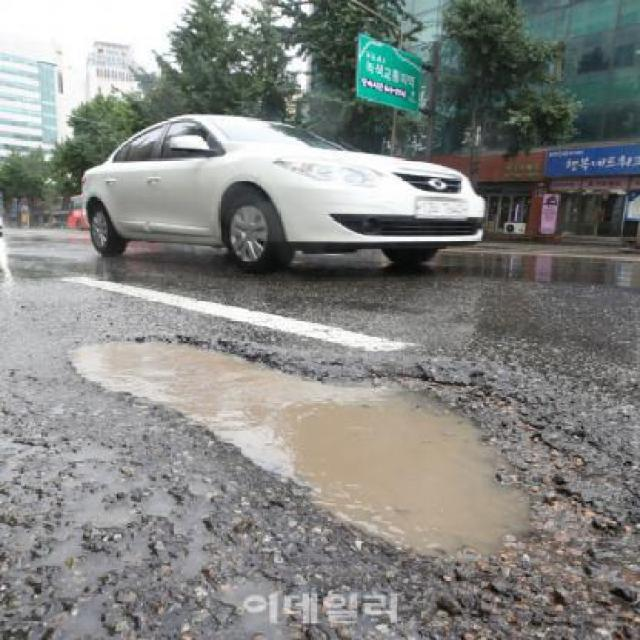Pothole: (56, 328, 558, 569)
